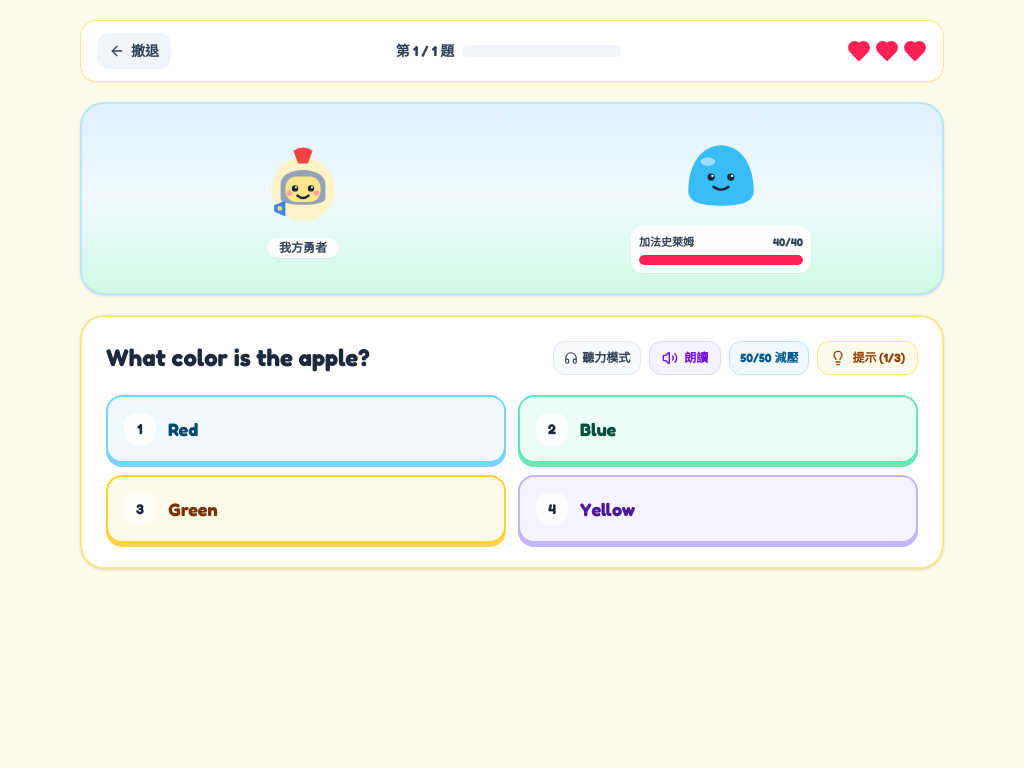
Test: Engagement, Hanzi & Deep Teaching Features › BattleArena supports English listening mode by hiding prompt text until revealed
This screenshot has width=1024, height=768.
Expected: the heading "What color is the apple?" is shown, [106,342,370,372]
Click the button "聽力模式": (597, 358) [553,340,641,374]
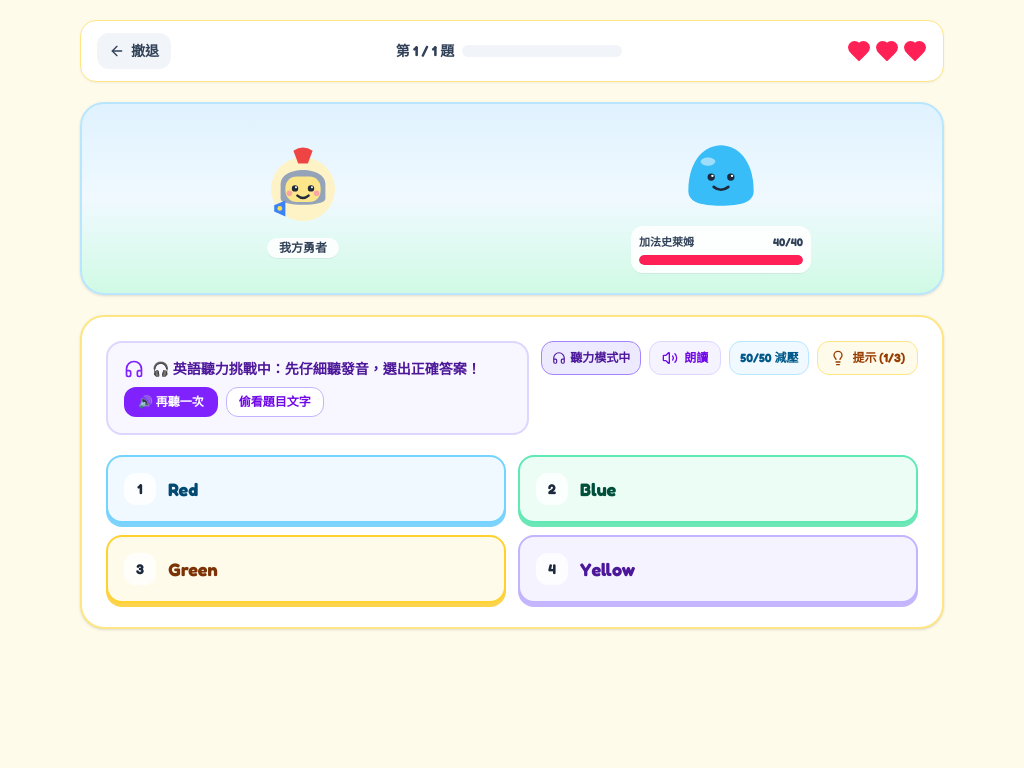
Result: the heading "What color is the apple?" is gone
Result: the text "🎧 英語聽力挑戰中：先仔細聽發音，選出正確答案！" is shown at [152,358,481,378]
Click the button "偷看題目文字": (275, 402) [226,386,324,416]
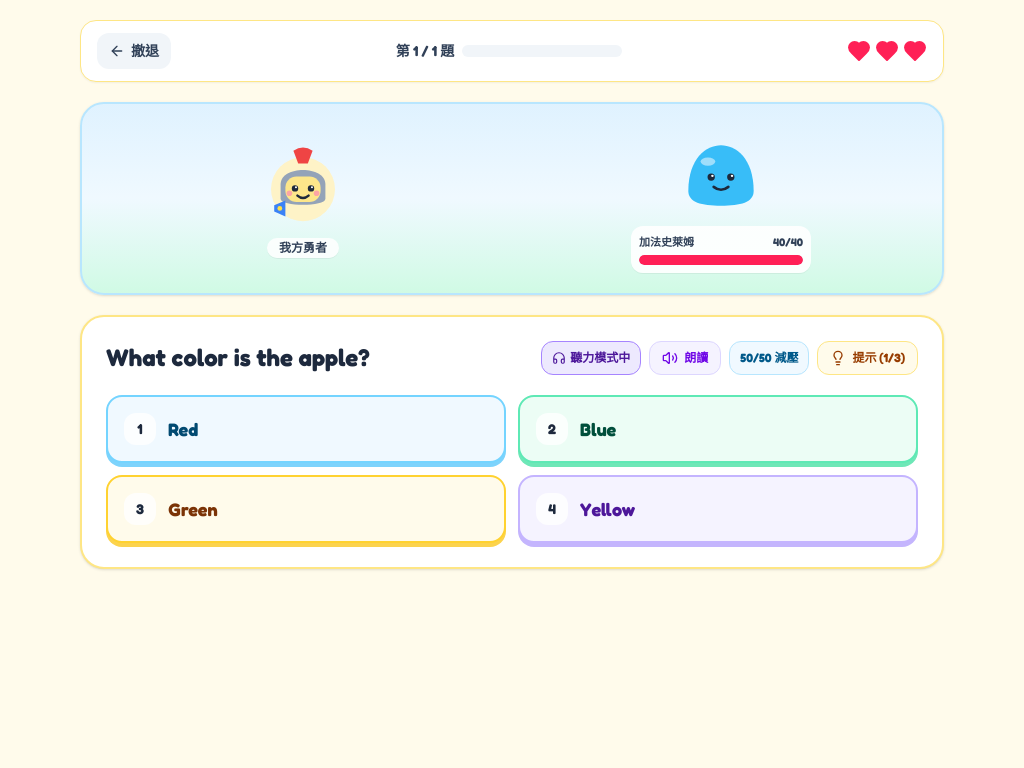
Result: the heading "What color is the apple?" is shown at [106,342,370,372]
